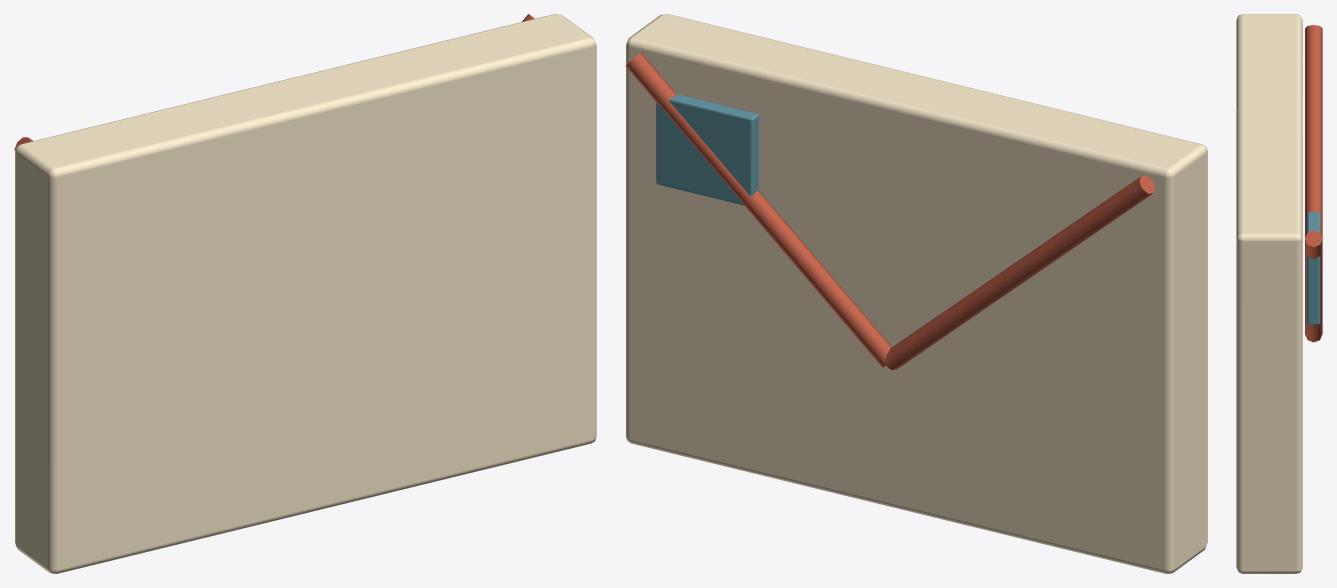
File: treasure-mail.glb
3 renders of one model, left to right at view 1: azimuth 30°, elevation 25°; view 2: azimuth 150°, elevation 25°; view 3: azimuth 270°, elevation 25°, orthographic. The views are drawn at different scales.
Visible parts, largest first — view 1: collectible-mail; view 2: collectible-mail; view 3: collectible-mail.
Part boxes in pixels (x1,y1,x2,y2): collectible-mail: (14,14,596,573); collectible-mail: (625,14,1207,573); collectible-mail: (1236,14,1322,573).
Size of the model in its own units: 0.48 by 0.34 by 0.078.
